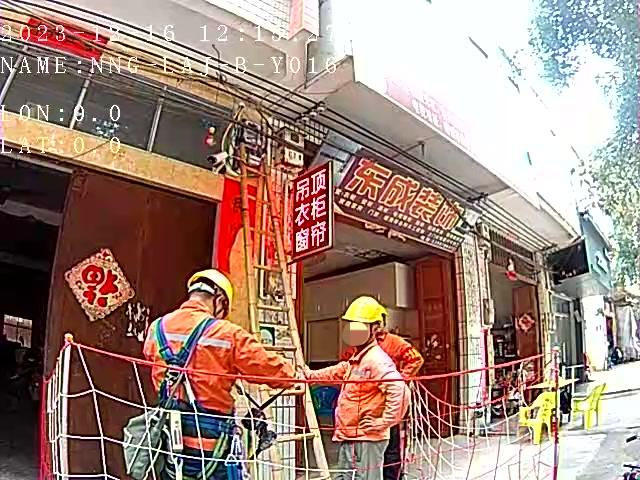halt: (187, 271, 238, 319), (342, 299, 390, 349)
inear: (210, 293, 227, 314)
